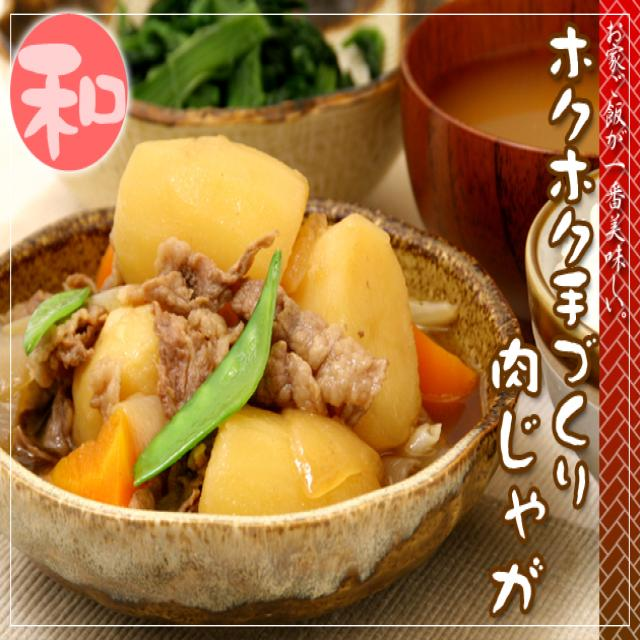牛肉菜式: (0, 96, 302, 312)
